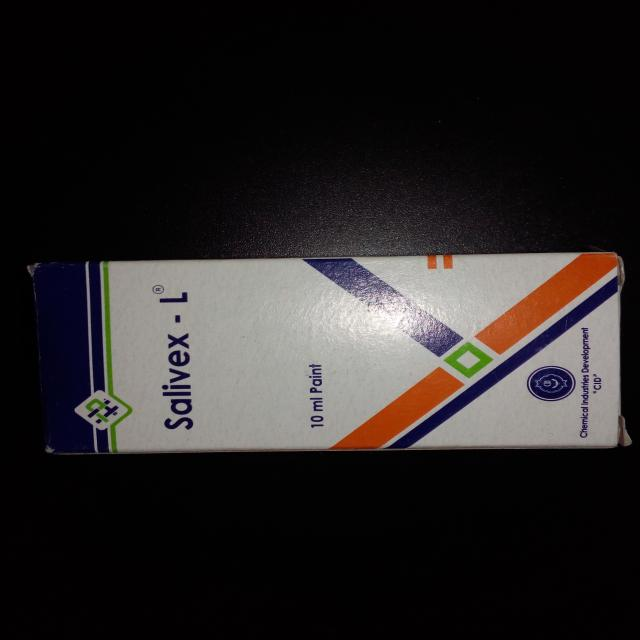Medicine: (24, 247, 636, 454)
